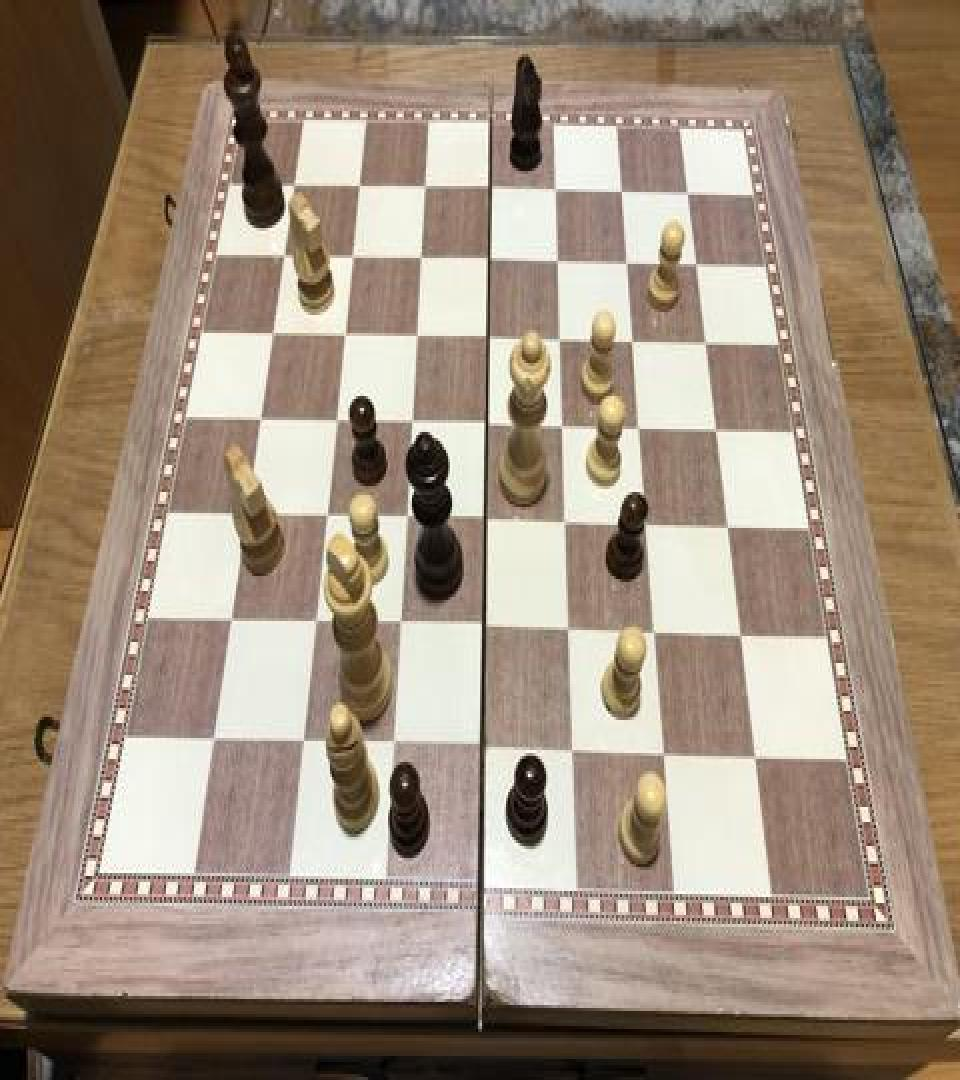xcorner: (727, 616, 751, 653), (219, 601, 243, 638), (677, 177, 701, 213), (611, 176, 635, 212), (545, 174, 569, 210), (480, 174, 504, 210), (349, 171, 373, 207), (285, 170, 309, 206), (685, 248, 709, 284), (616, 246, 640, 282), (547, 246, 571, 282), (479, 244, 503, 280), (410, 243, 434, 279), (342, 242, 366, 278), (274, 240, 298, 276), (694, 326, 718, 362), (621, 324, 645, 360), (549, 322, 573, 358), (477, 321, 501, 357), (405, 320, 429, 356), (334, 318, 358, 354), (262, 316, 286, 352), (627, 411, 651, 447), (551, 410, 575, 446), (475, 408, 499, 444), (400, 405, 424, 441), (324, 404, 348, 440), (249, 402, 273, 438), (715, 508, 739, 544), (634, 507, 658, 543), (554, 504, 578, 540), (474, 502, 498, 538), (394, 501, 418, 537), (314, 498, 338, 534), (235, 496, 259, 532), (642, 614, 666, 650), (557, 612, 581, 648), (472, 609, 496, 645), (387, 608, 411, 644), (303, 604, 327, 640), (741, 738, 765, 774), (650, 735, 674, 771), (560, 732, 584, 768), (469, 729, 493, 765), (380, 726, 404, 762), (290, 724, 314, 760), (201, 722, 225, 758), (415, 173, 439, 208), (704, 413, 728, 448)
